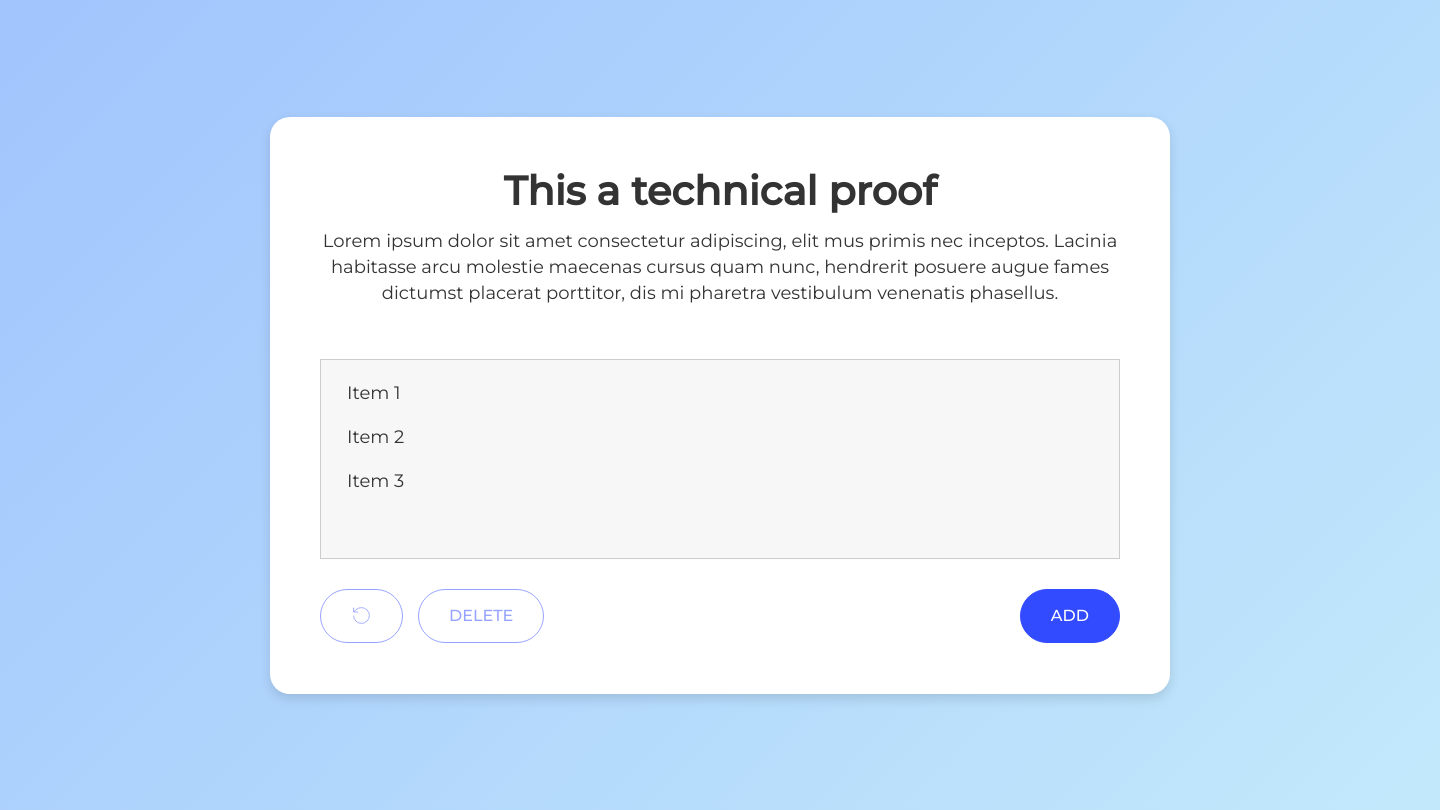
Home › delete added item with undo
This screenshot has width=1440, height=810.
Click the button "Add": (1070, 616) [1020, 589, 1120, 643]
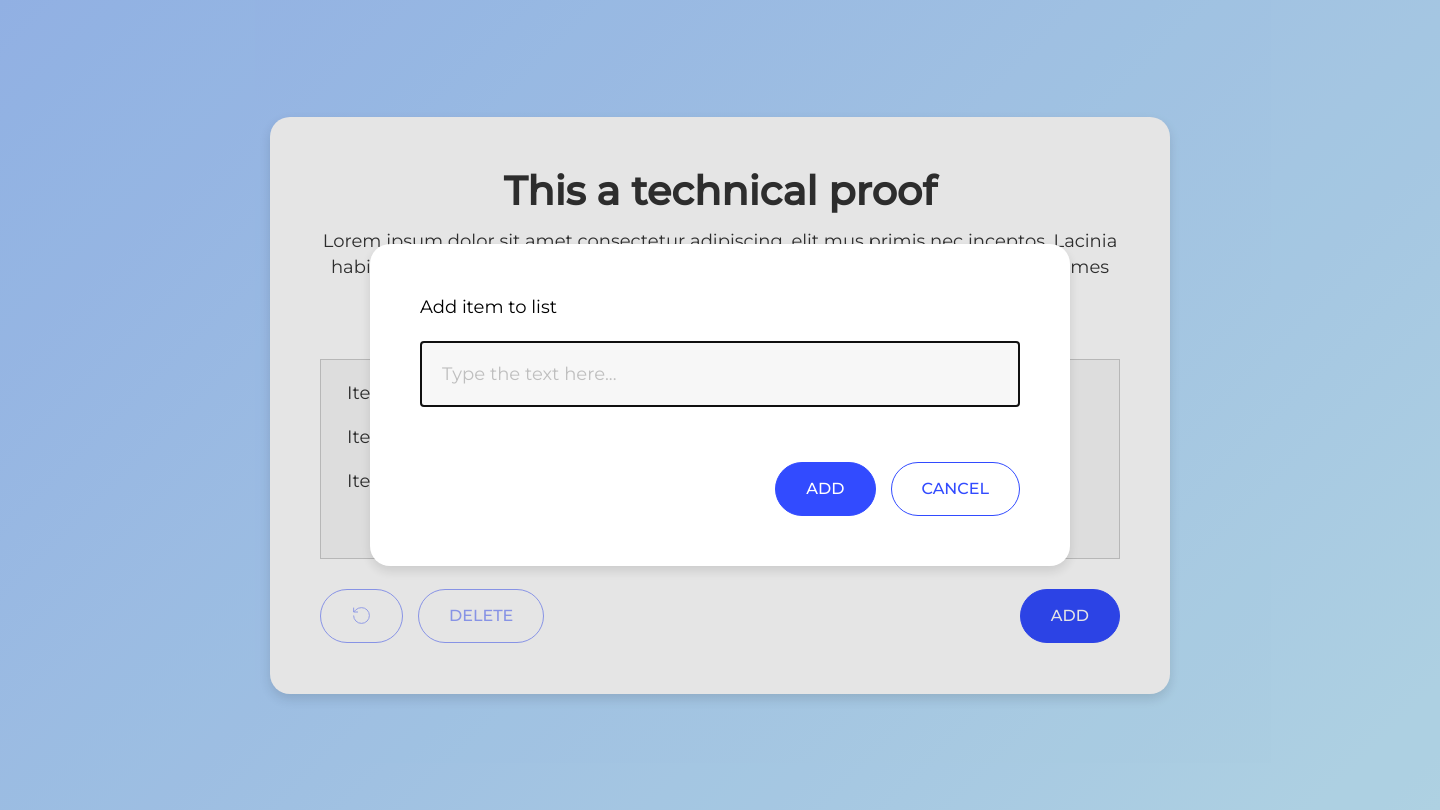
In the field: (720, 374) [420, 340, 1020, 407], type "New item"
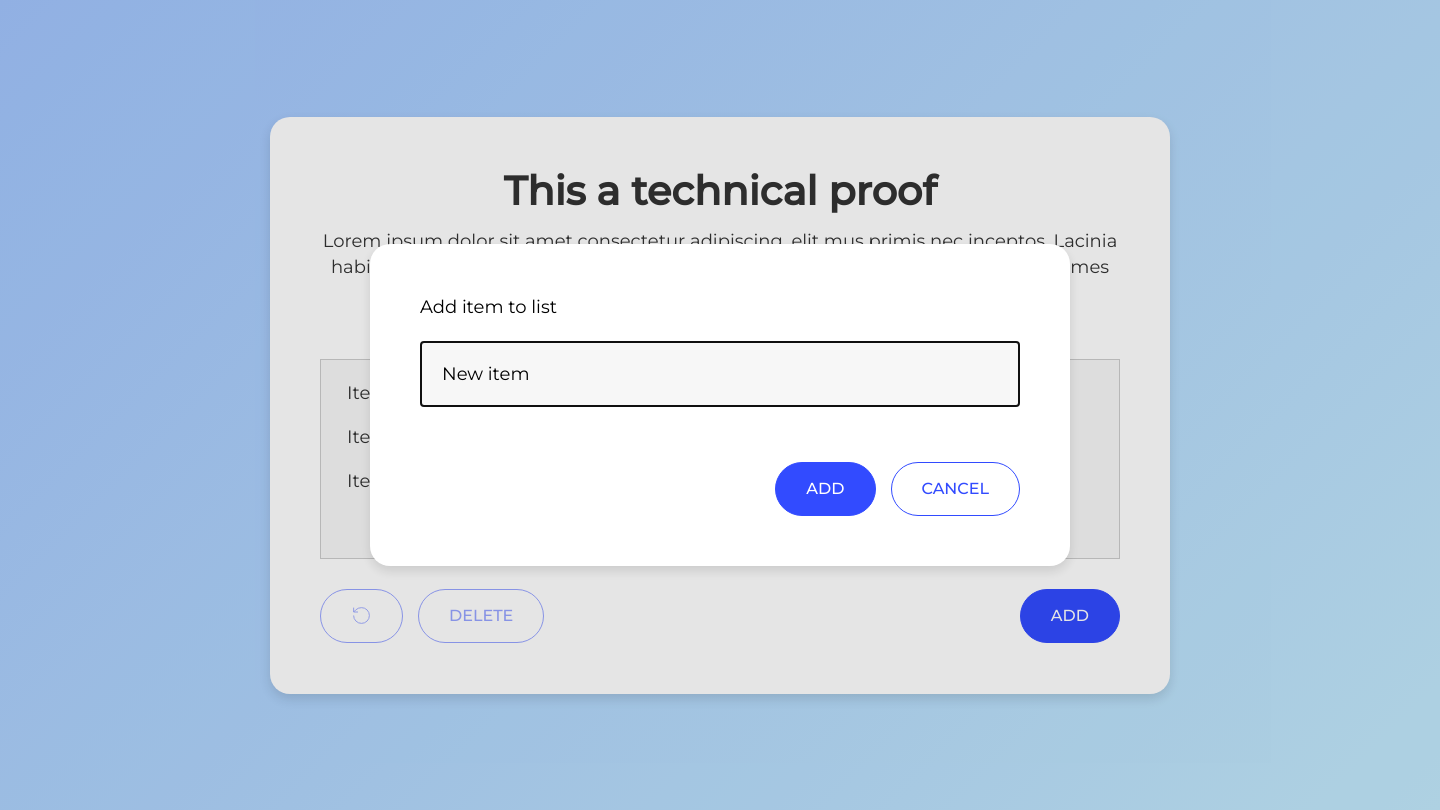
Click the button "Add": (826, 489) [775, 462, 876, 516]
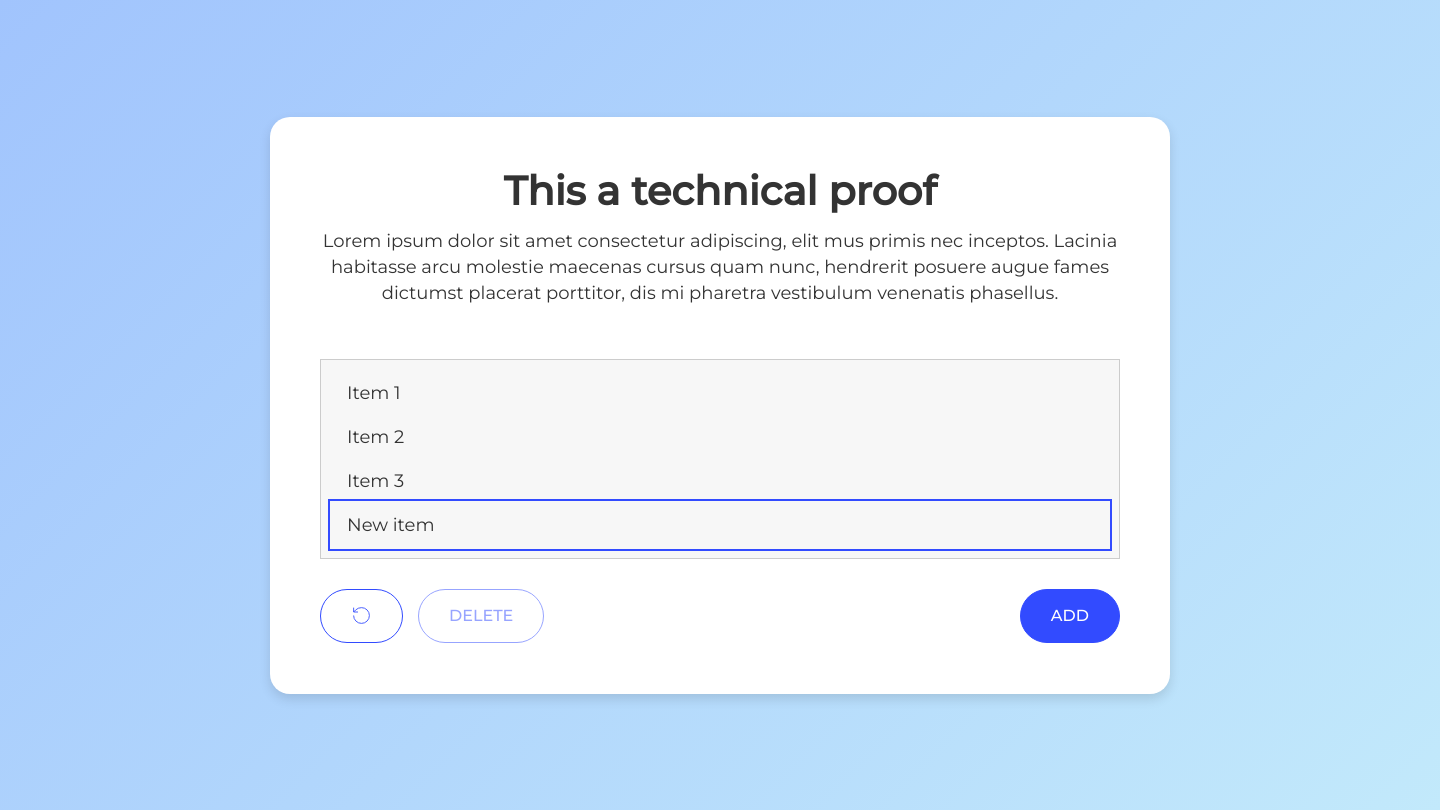
Click the button named "Undo action": (362, 616) [320, 589, 403, 643]
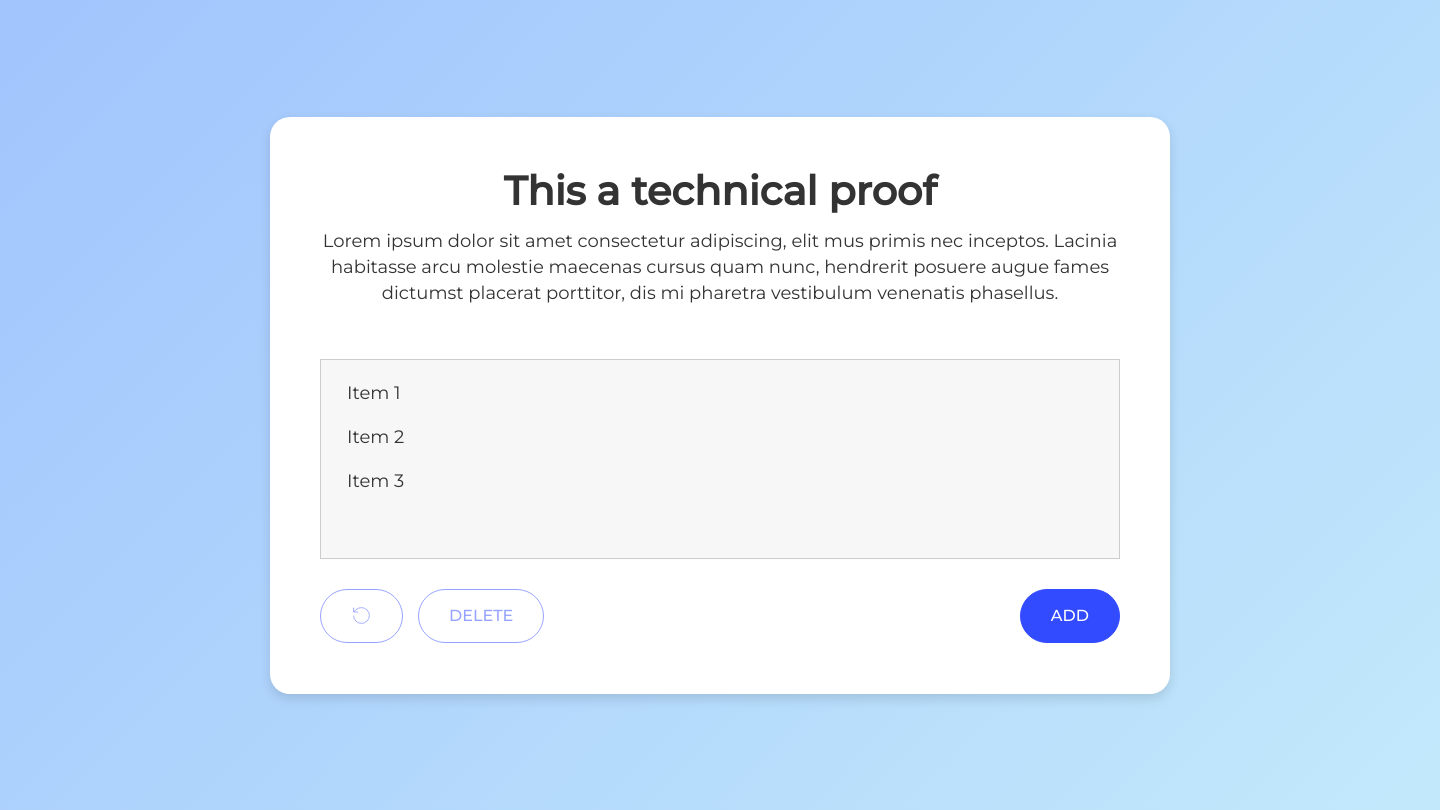
Expected: the list item "New item" is gone
